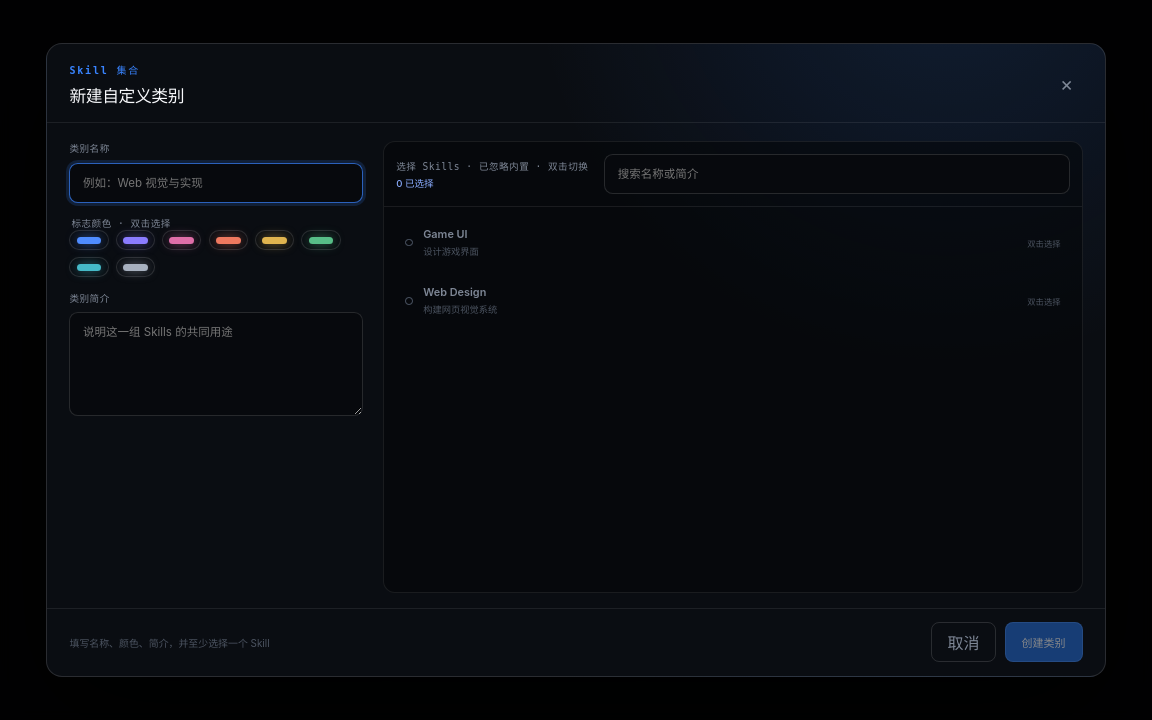
Test: CreateCategoryDialog › filters the selectable Skills without clearing current selections
Double-click the button "Game UI 设计游戏界面 双击选择": (445, 234) [393, 216, 1073, 269]
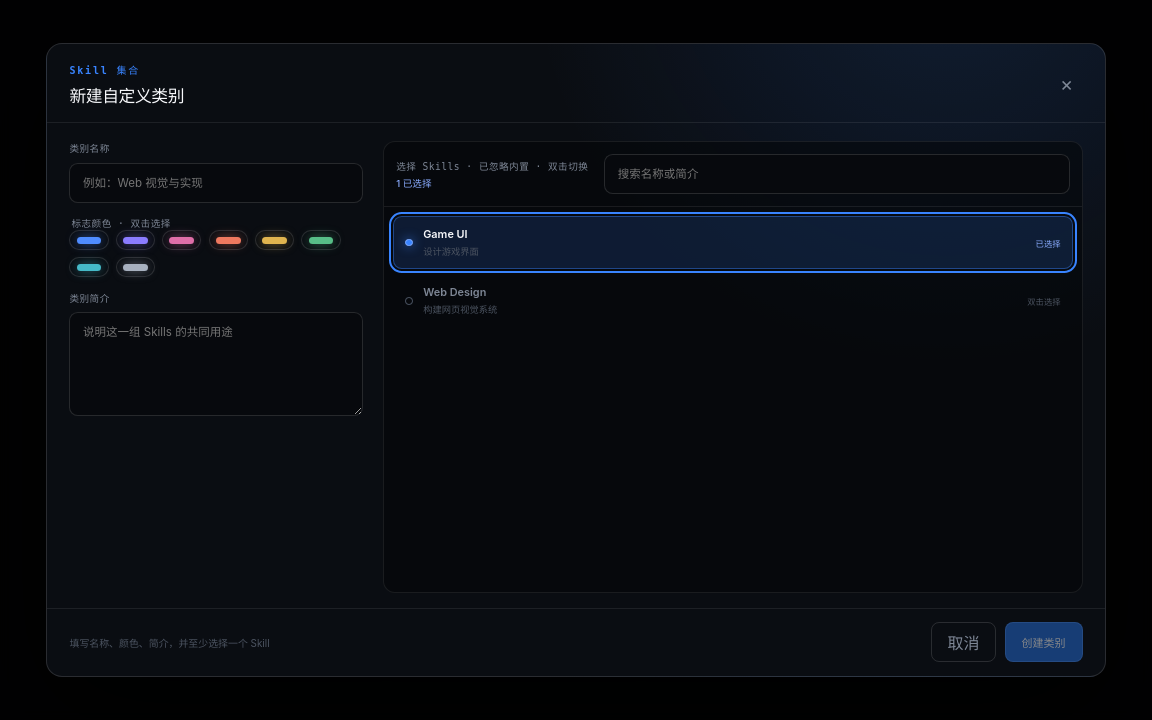
In the search field named "搜索可选 Skills": (837, 174) [604, 154, 1070, 194], type "Web"
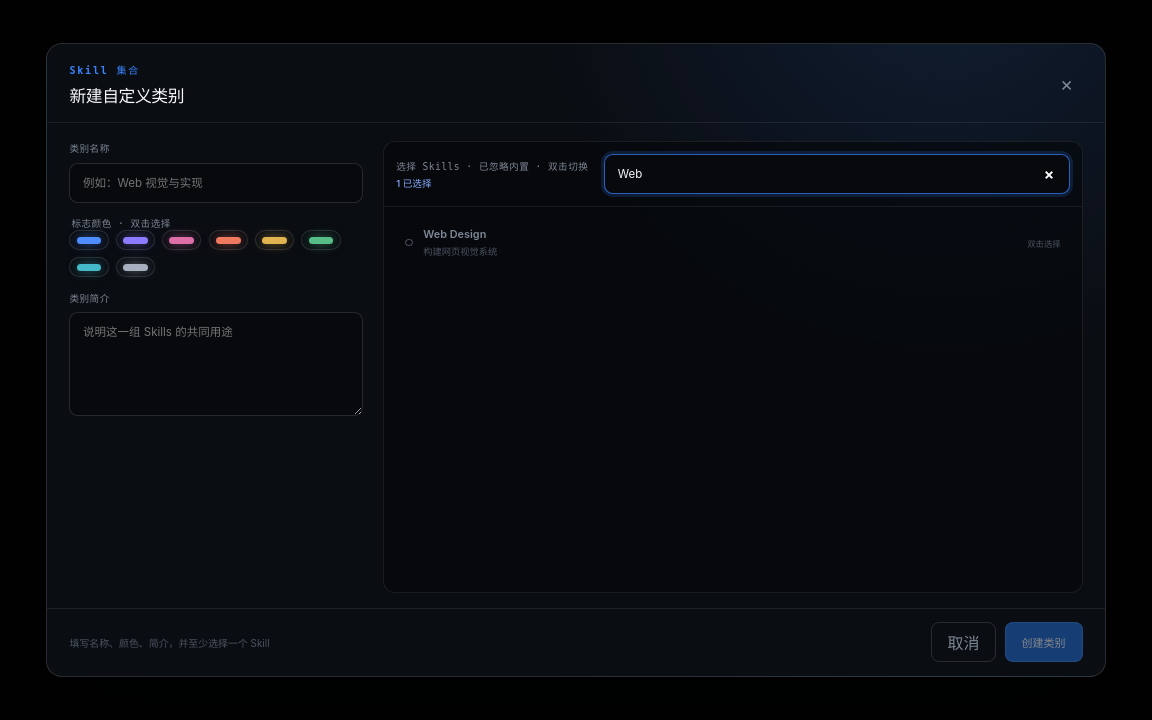
Expected: the button "Web Design 构建网页视觉系统 双击选择" is shown, [393, 216, 1073, 269]
Expected: the text "1 已选择" is shown, [396, 178, 432, 189]
Expected: the button "Game UI" is gone
